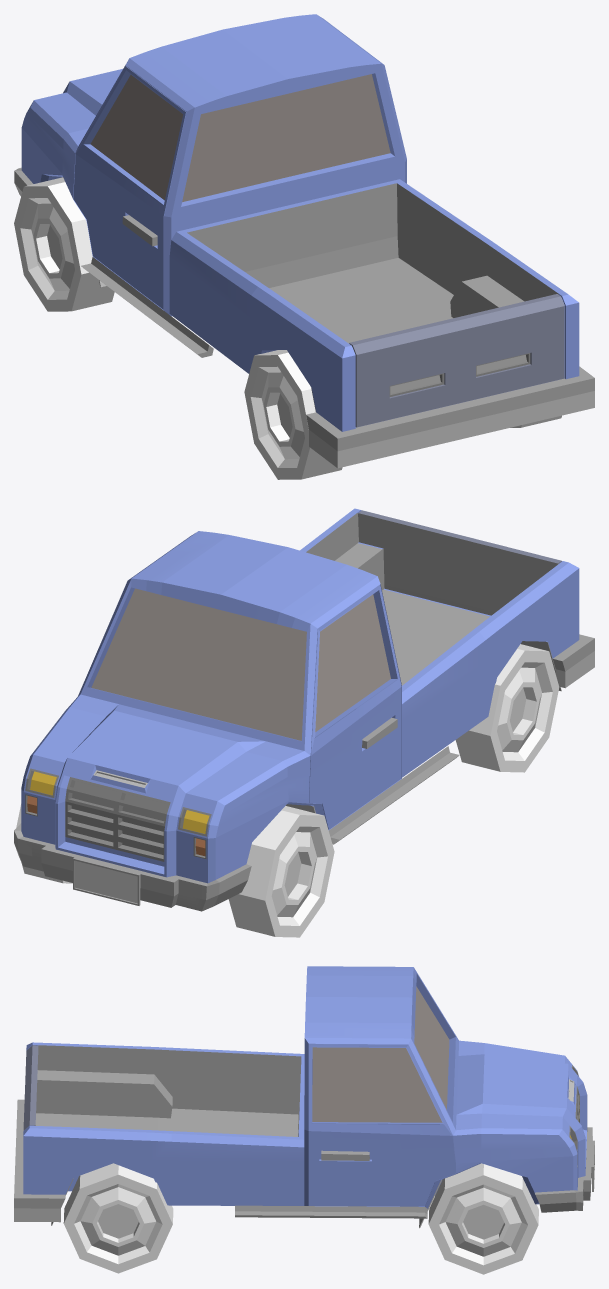
File: BlueCarWithWheels.fbx
The picture shows the model from 3 angles, top to bottom: view 1: azimuth 30°, elevation 25°; view 2: azimuth 150°, elevation 25°; view 3: azimuth 270°, elevation 25°; orthographic projection. The views are drawn at different scales.
Parts seen in each view (by area): view 1: Blue_Car, Blue_Car.003, Blue_Car.004; view 2: Blue_Car, Blue_Car.003, Blue_Car.004; view 3: Blue_Car, Blue_Car.001, Blue_Car.002.
Boxes of the visible parts, x1,y1,x2,y2 form: Blue_Car: [14, 14, 594, 468]; Blue_Car.003: [14, 177, 114, 311]; Blue_Car.004: [244, 350, 342, 479]; Blue_Car: [14, 508, 594, 911]; Blue_Car.003: [228, 806, 334, 937]; Blue_Car.004: [455, 644, 559, 772]; Blue_Car: [14, 966, 594, 1228]; Blue_Car.001: [428, 1163, 538, 1274]; Blue_Car.002: [63, 1163, 173, 1273].
Bounding box in the file's own units: 169 × 172 × 401.
